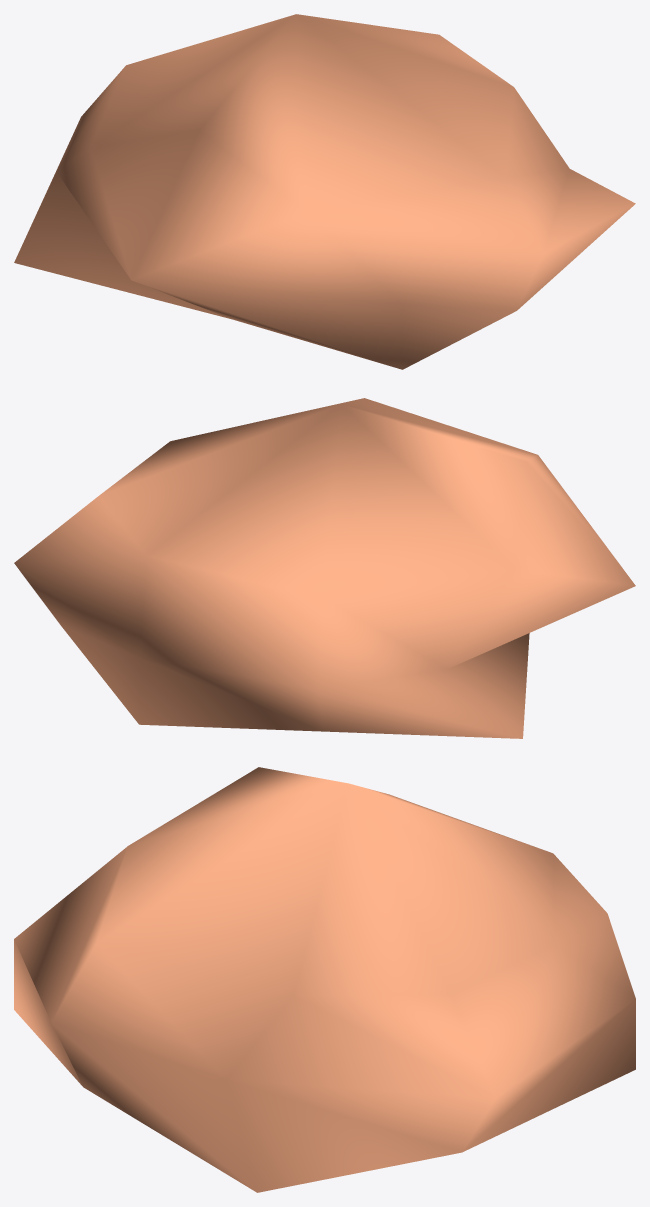
File: Rock1.fbx
The picture shows the model from 3 angles, top to bottom: view 1: azimuth 30°, elevation 25°; view 2: azimuth 150°, elevation 25°; view 3: azimuth 270°, elevation 25°; orthographic projection. The views are drawn at different scales.
Parts seen in each view (by area): view 1: Rock1_LOD0; view 2: Rock1_LOD0; view 3: Rock1_LOD0.
Part boxes in pixels (x1,y1,x2,y2): Rock1_LOD0: [14, 14, 635, 369]; Rock1_LOD0: [14, 398, 635, 738]; Rock1_LOD0: [14, 767, 635, 1192].
Bounding box in the file's own units: 16550 × 6943 × 15556.
